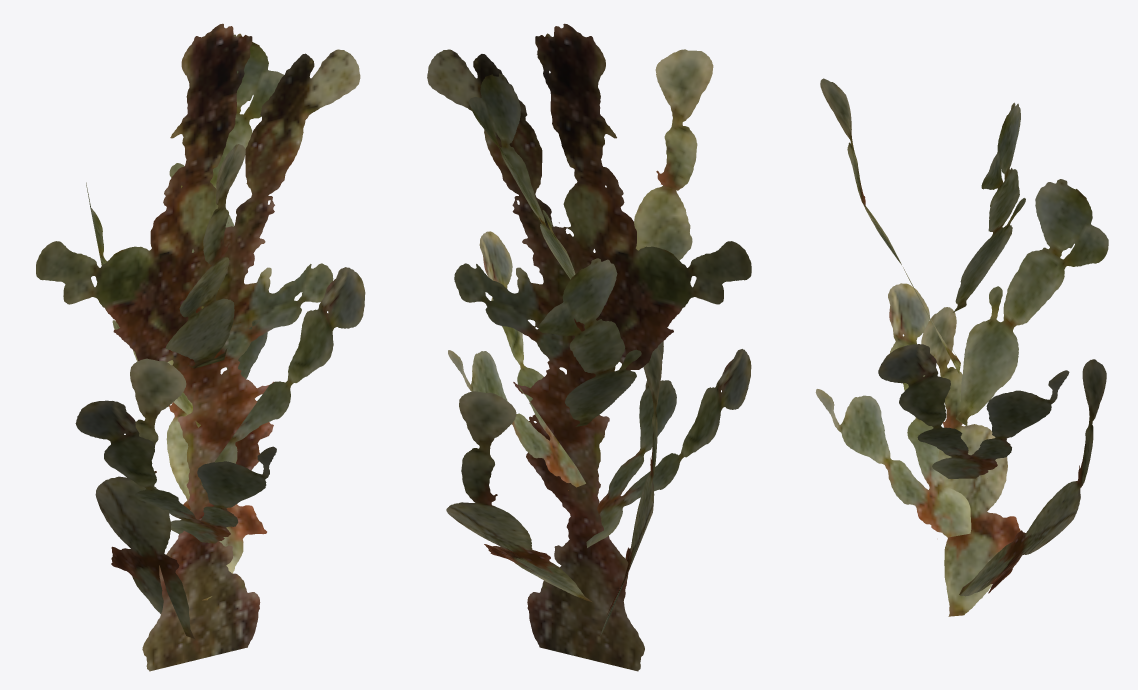
Rendered from seaweed_3_4.FBX.
The picture shows the model from 3 angles, left to right: view 1: azimuth 30°, elevation 25°; view 2: azimuth 150°, elevation 25°; view 3: azimuth 270°, elevation 25°; orthographic projection. The views are drawn at different scales.
Parts seen in each view (by area): view 1: seaweed_3_04; view 2: seaweed_3_04; view 3: seaweed_3_04.
Part boxes in pixels (x1,y1,x2,y2): seaweed_3_04: [36, 23, 365, 671]; seaweed_3_04: [427, 23, 751, 671]; seaweed_3_04: [815, 78, 1108, 616].
Bounding box in the file's own units: 13.25 × 23.31 × 10.8.
Materials: 1 (1 with a texture image).
